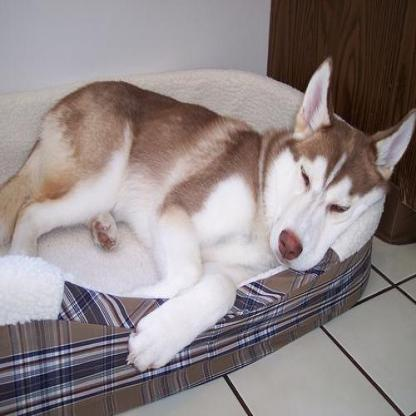Siberian_husky: (1, 62, 414, 364)
